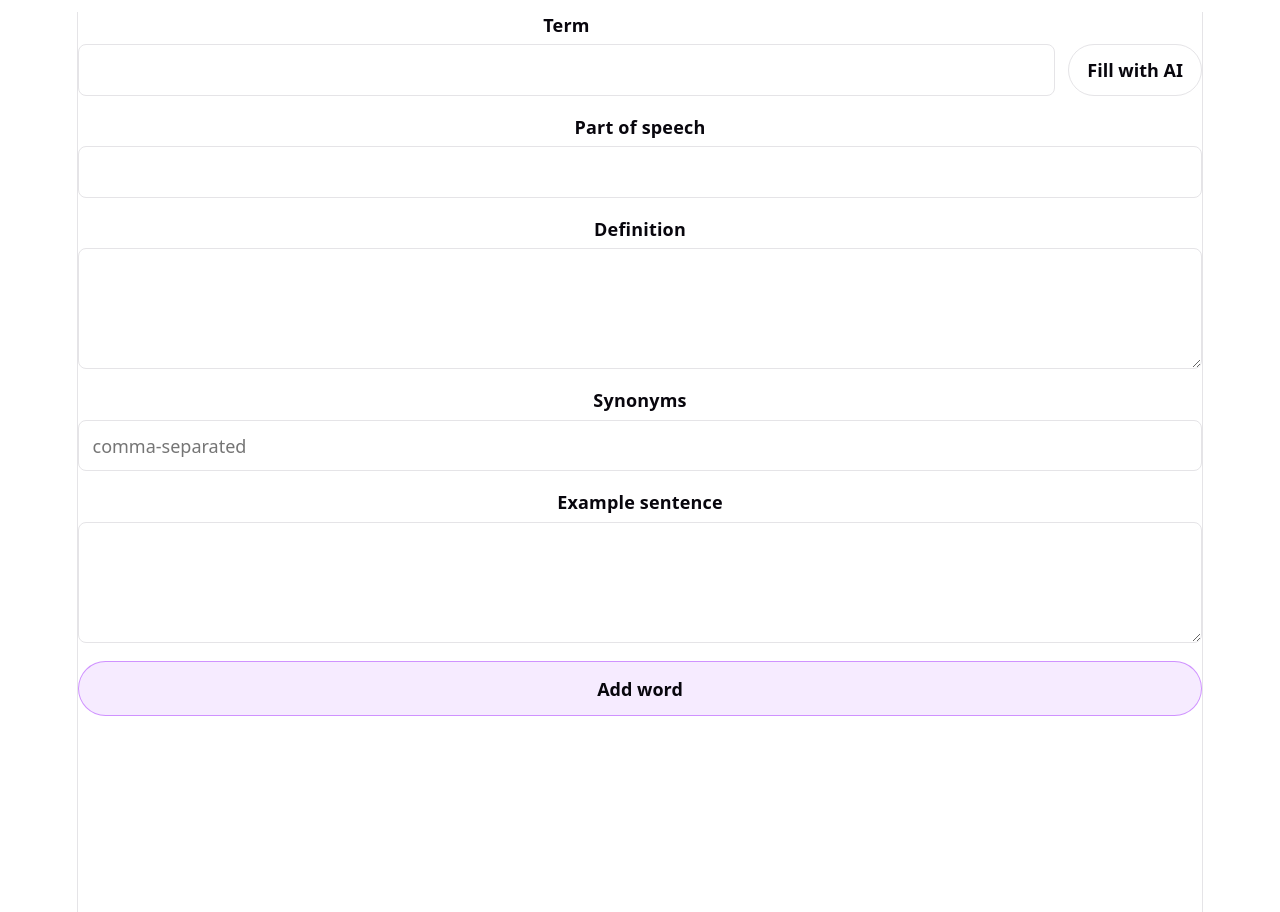
Test: WordForm › prefills fields when Fill with AI succeeds
Type "ephemeral" into the field labelled "Term".
click(566, 70); type("ephemeral")  # box [78, 44, 1055, 96]
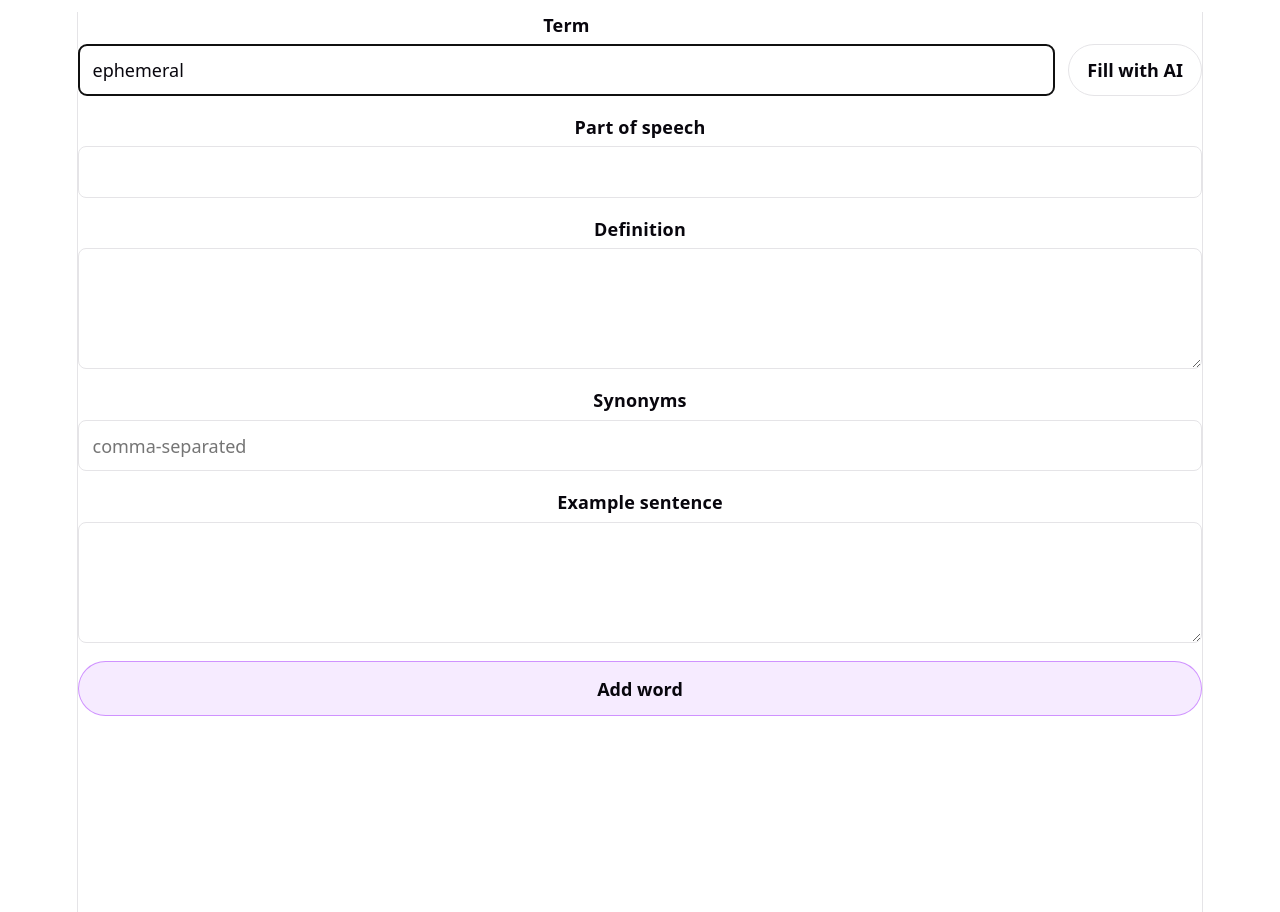
Click the button "Fill with AI".
click(1135, 70)  # box [1068, 44, 1202, 96]
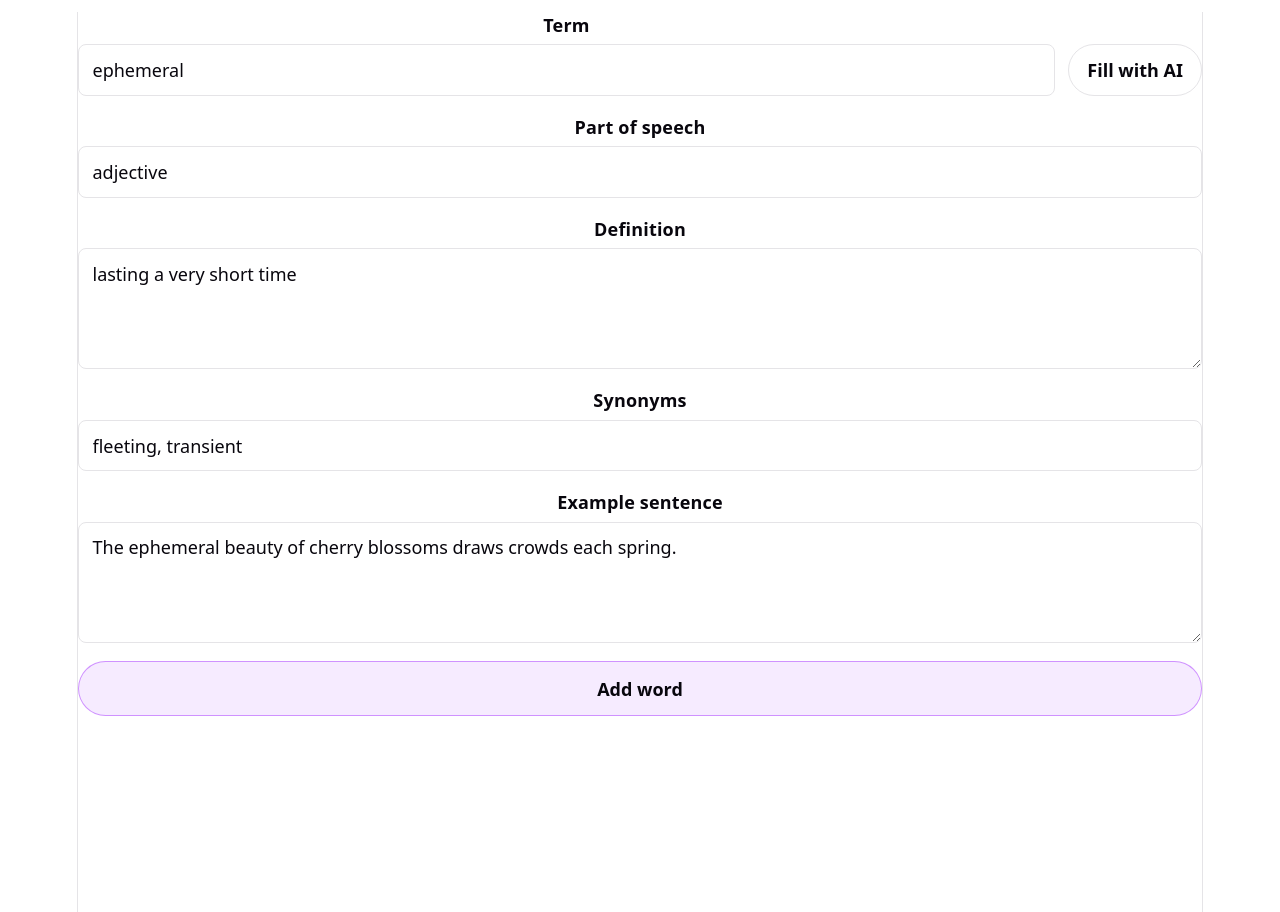
Expected: the field labelled "Part of speech" holds "adjective", [78, 146, 1202, 198]
Expected: the text box labelled "Definition" holds "lasting a very short time", [78, 248, 1202, 370]
Expected: the field labelled "Synonyms" holds "fleeting, transient", [78, 420, 1202, 471]
